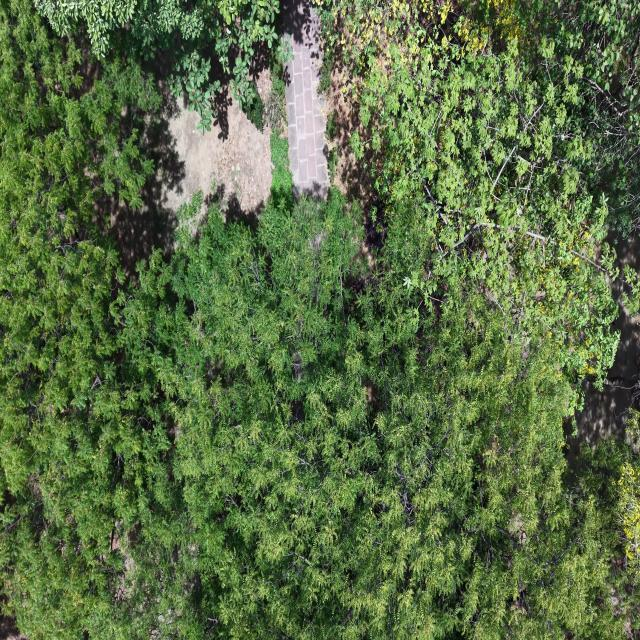DRY_AREA: (99, 91, 271, 277), (100, 96, 271, 274), (283, 0, 378, 214), (322, 50, 386, 265), (158, 99, 271, 218), (570, 278, 639, 457), (162, 104, 271, 216), (162, 101, 271, 213), (326, 59, 381, 215), (0, 616, 27, 639)
PATHWAYS: (283, 0, 328, 197)
VEGETATION_TREE: (0, 0, 639, 639), (168, 193, 635, 638), (326, 0, 639, 375), (0, 0, 159, 637), (324, 0, 639, 230), (36, 0, 290, 133)
